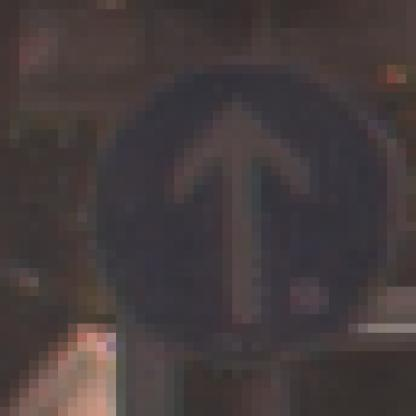AheadOnly: (49, 47, 369, 362)
